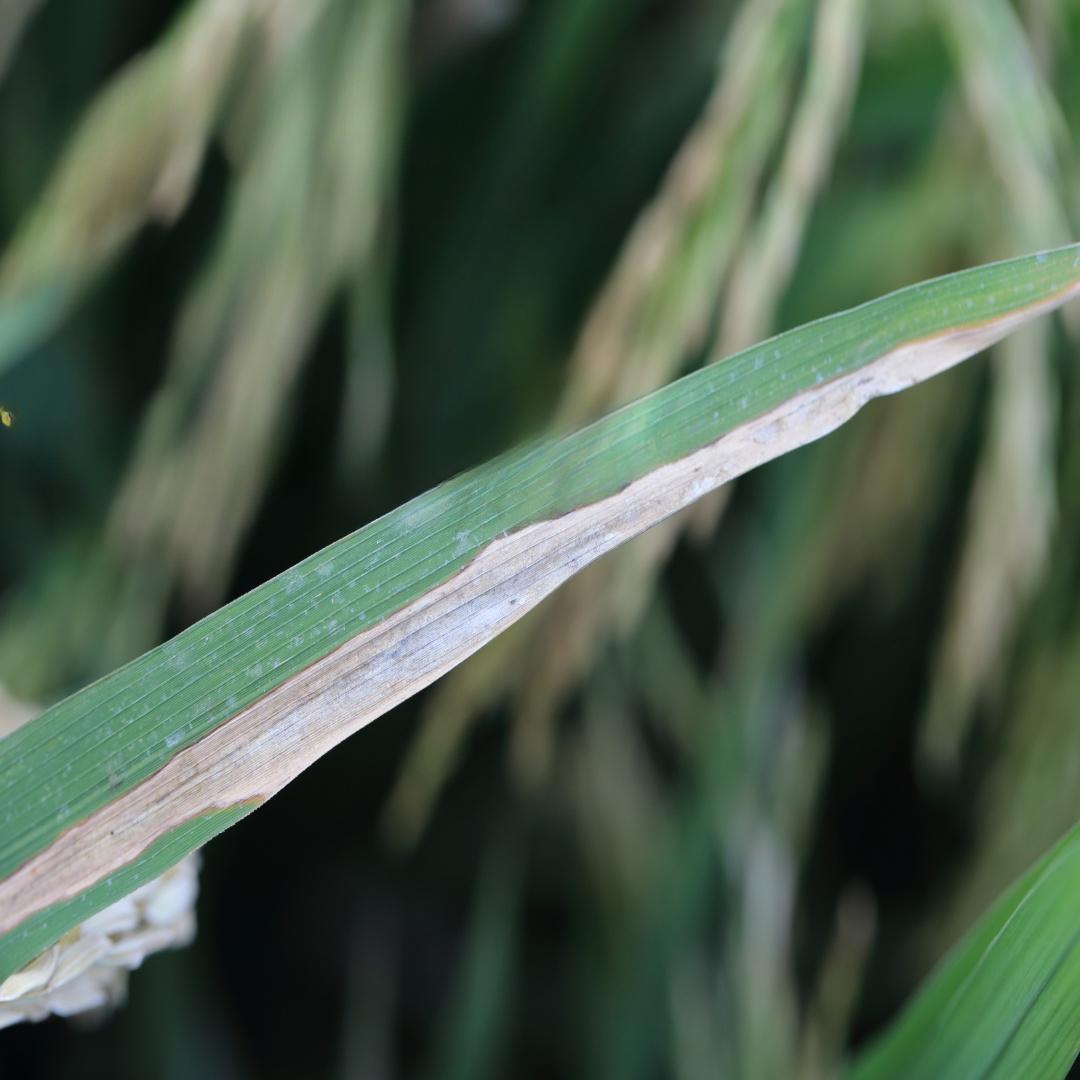BLB: (0, 278, 1079, 934)
